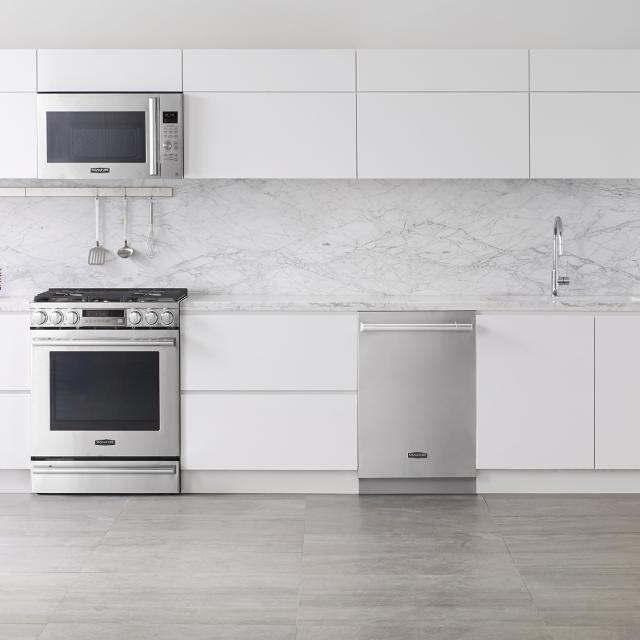dishwasher: (358, 308, 476, 495)
